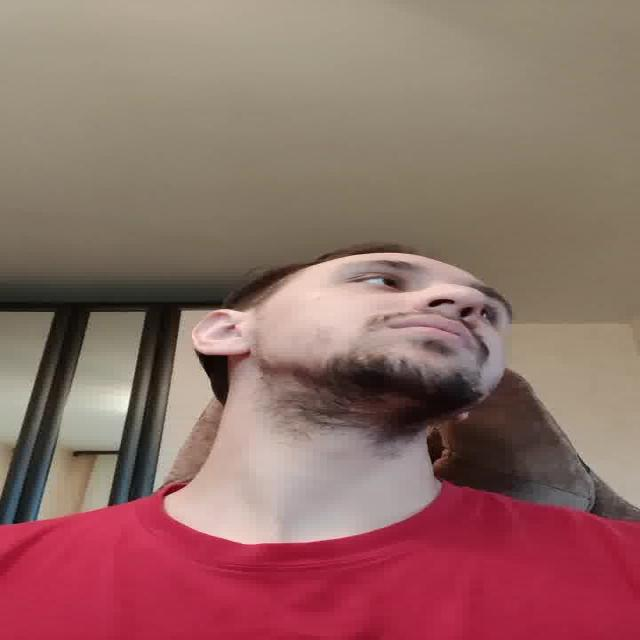earlobe: (211, 338, 250, 356)
eye: (354, 271, 413, 292), (477, 303, 502, 323)
nose: (419, 299, 476, 323)
wholeear: (192, 309, 250, 356)
